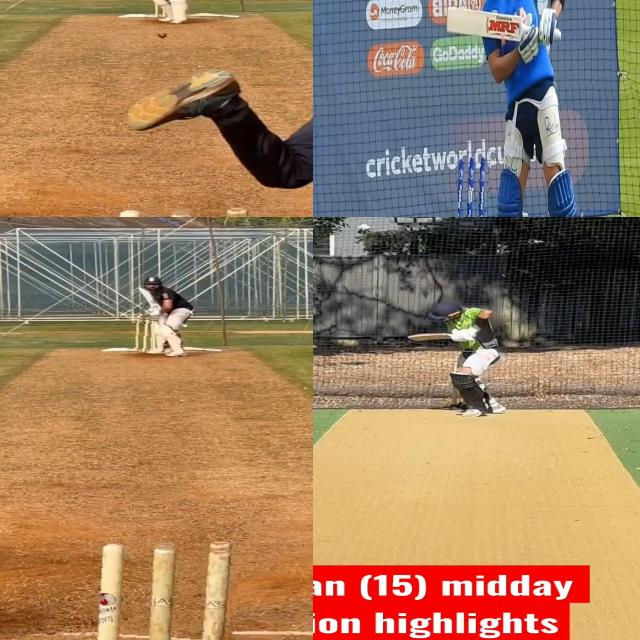Cricket ball: (156, 32, 168, 38)
Stumps: (97, 539, 239, 640), (458, 158, 491, 217), (136, 316, 156, 352)
